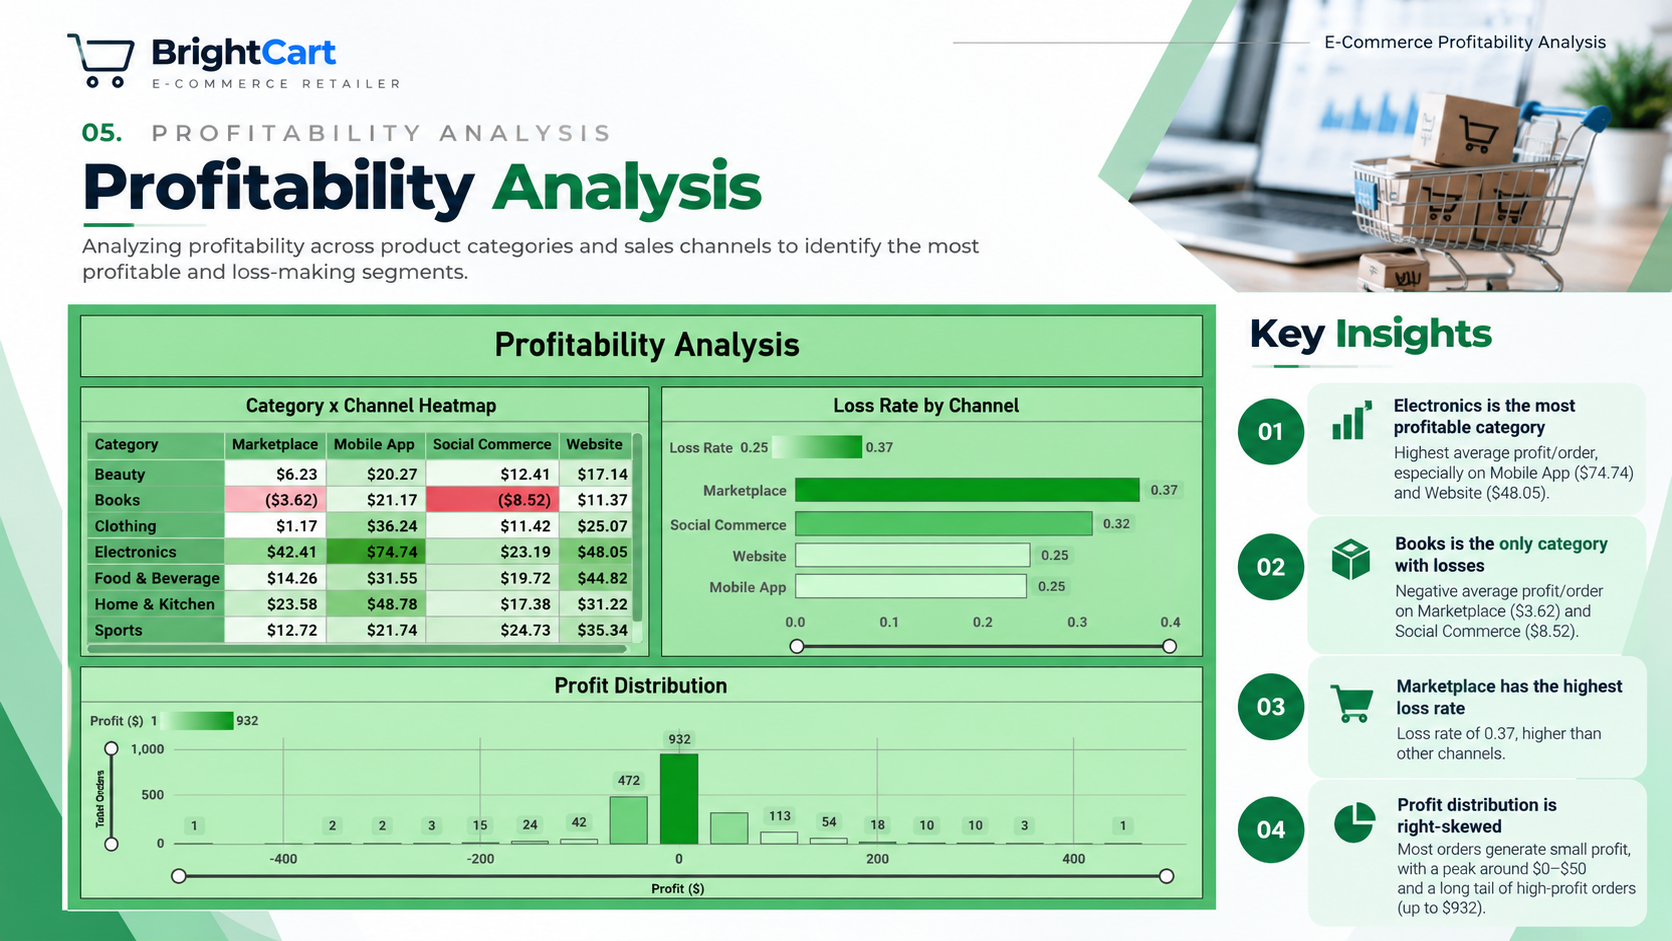

Layout of this report page (visuals, bound fields, positions):
{"tool":"powerbi","page":{"name":"Profitability Analysis","canvas":[1280,720],"ordinal":1},"visuals":[{"type":"pivotTable","title":"Category x Channel Heatmap","fields":{"Rows":["ecommerce orders.primary_category"],"Columns":["ecommerce orders.channel"],"Values":["Avg(ecommerce orders.profit)"]},"box":[13.3,100,626.7,303.3],"z":0},{"type":"textbox","box":[13.3,11.7,1250,71.7],"z":1000},{"type":"clusteredBarChart","title":"Loss Rate by Channel","fields":{"Y":["ecommerce orders.loss_rate"],"Category":["ecommerce orders.channel"]},"box":[655,100,608.3,303.3],"z":2000},{"type":"clusteredColumnChart","title":"Profit Distribution","fields":{"Category":["ecommerce orders.profit (bins)"],"Y":["CountNonNull(ecommerce orders.order_id)"]},"box":[13,418.5,1250,288.9],"z":3000}]}

Visuals, with their boxes in screenshot pixels (x1, y1, x2, y2), scaled from the page's 1280x720 canvas onto the 1672x941 screenshot:
"Category x Channel Heatmap" pivotTable: locate(17, 131, 836, 527)
textbox: locate(17, 15, 1650, 109)
"Loss Rate by Channel" clusteredBarChart: locate(856, 131, 1650, 527)
"Profit Distribution" clusteredColumnChart: locate(17, 547, 1650, 925)
